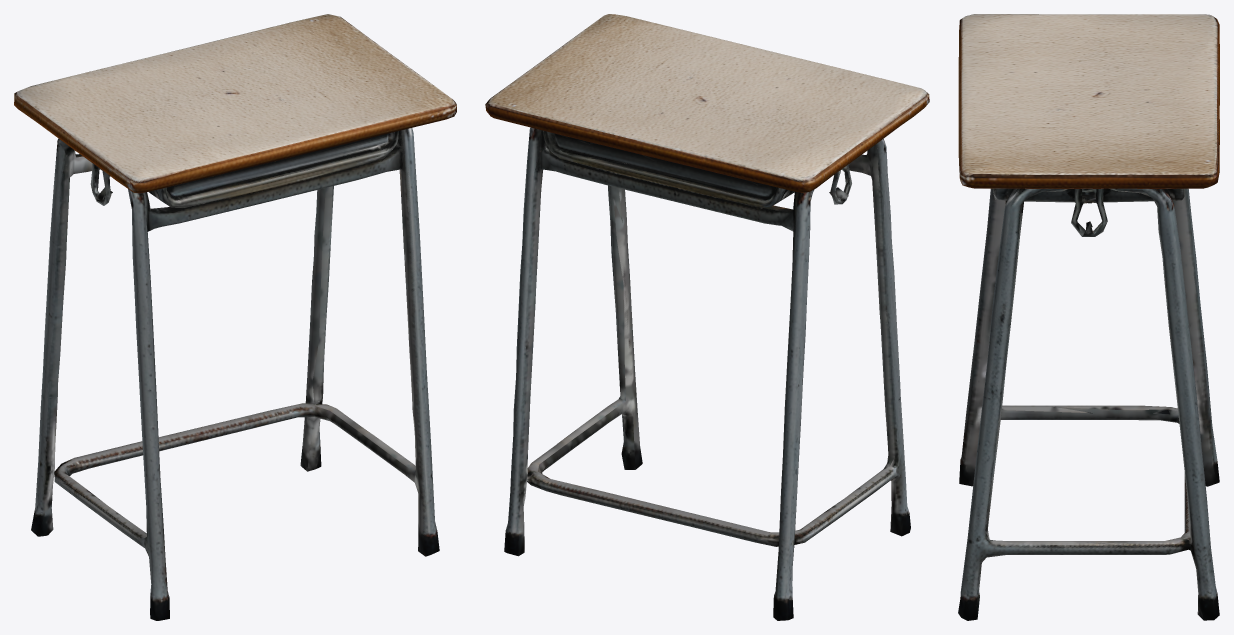
The model's file is Desk(O).fbx.
The picture shows the model from 3 angles, left to right: view 1: azimuth 30°, elevation 25°; view 2: azimuth 150°, elevation 25°; view 3: azimuth 270°, elevation 25°; orthographic projection. The views are drawn at different scales.
Visible parts, largest first — view 1: material_0; view 2: material_0; view 3: material_0.
Boxes of the visible parts, left/top/right/bottom form: material_0: left=14, top=14, right=456, bottom=620; material_0: left=485, top=14, right=929, bottom=620; material_0: left=958, top=14, right=1219, bottom=620.
Bounding box in the file's own units: 76.54 × 100 × 51.68.
Materials: 1 (1 with a texture image).
